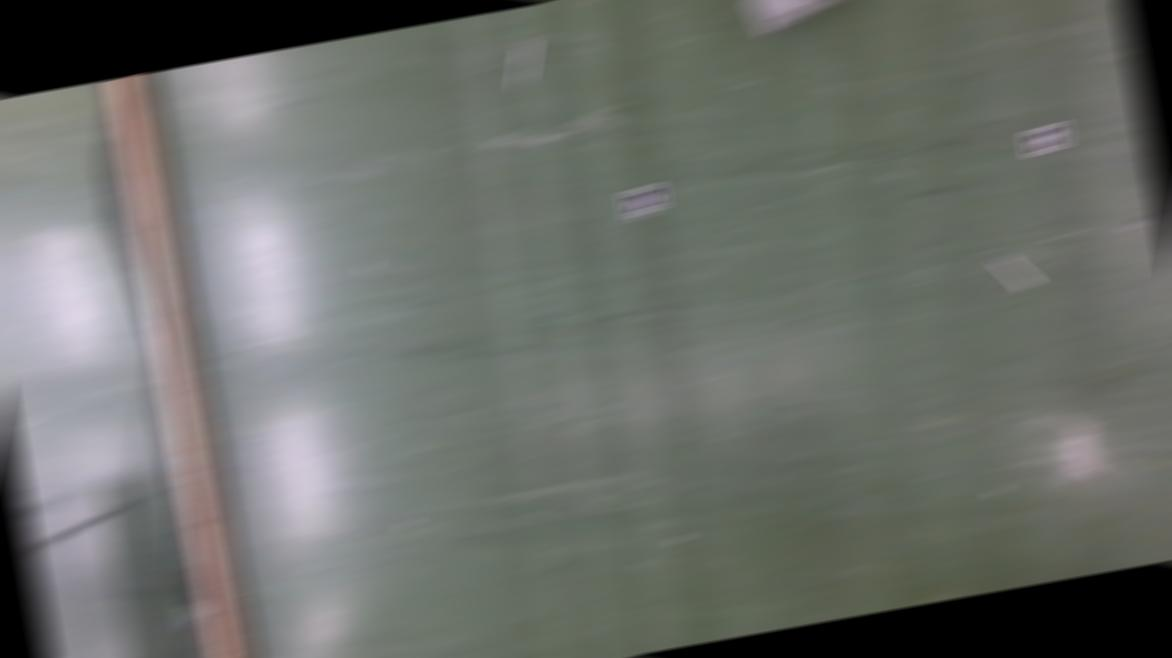probes: (996, 254, 1036, 293), (508, 46, 540, 88)
rako: (720, 1, 871, 41)
